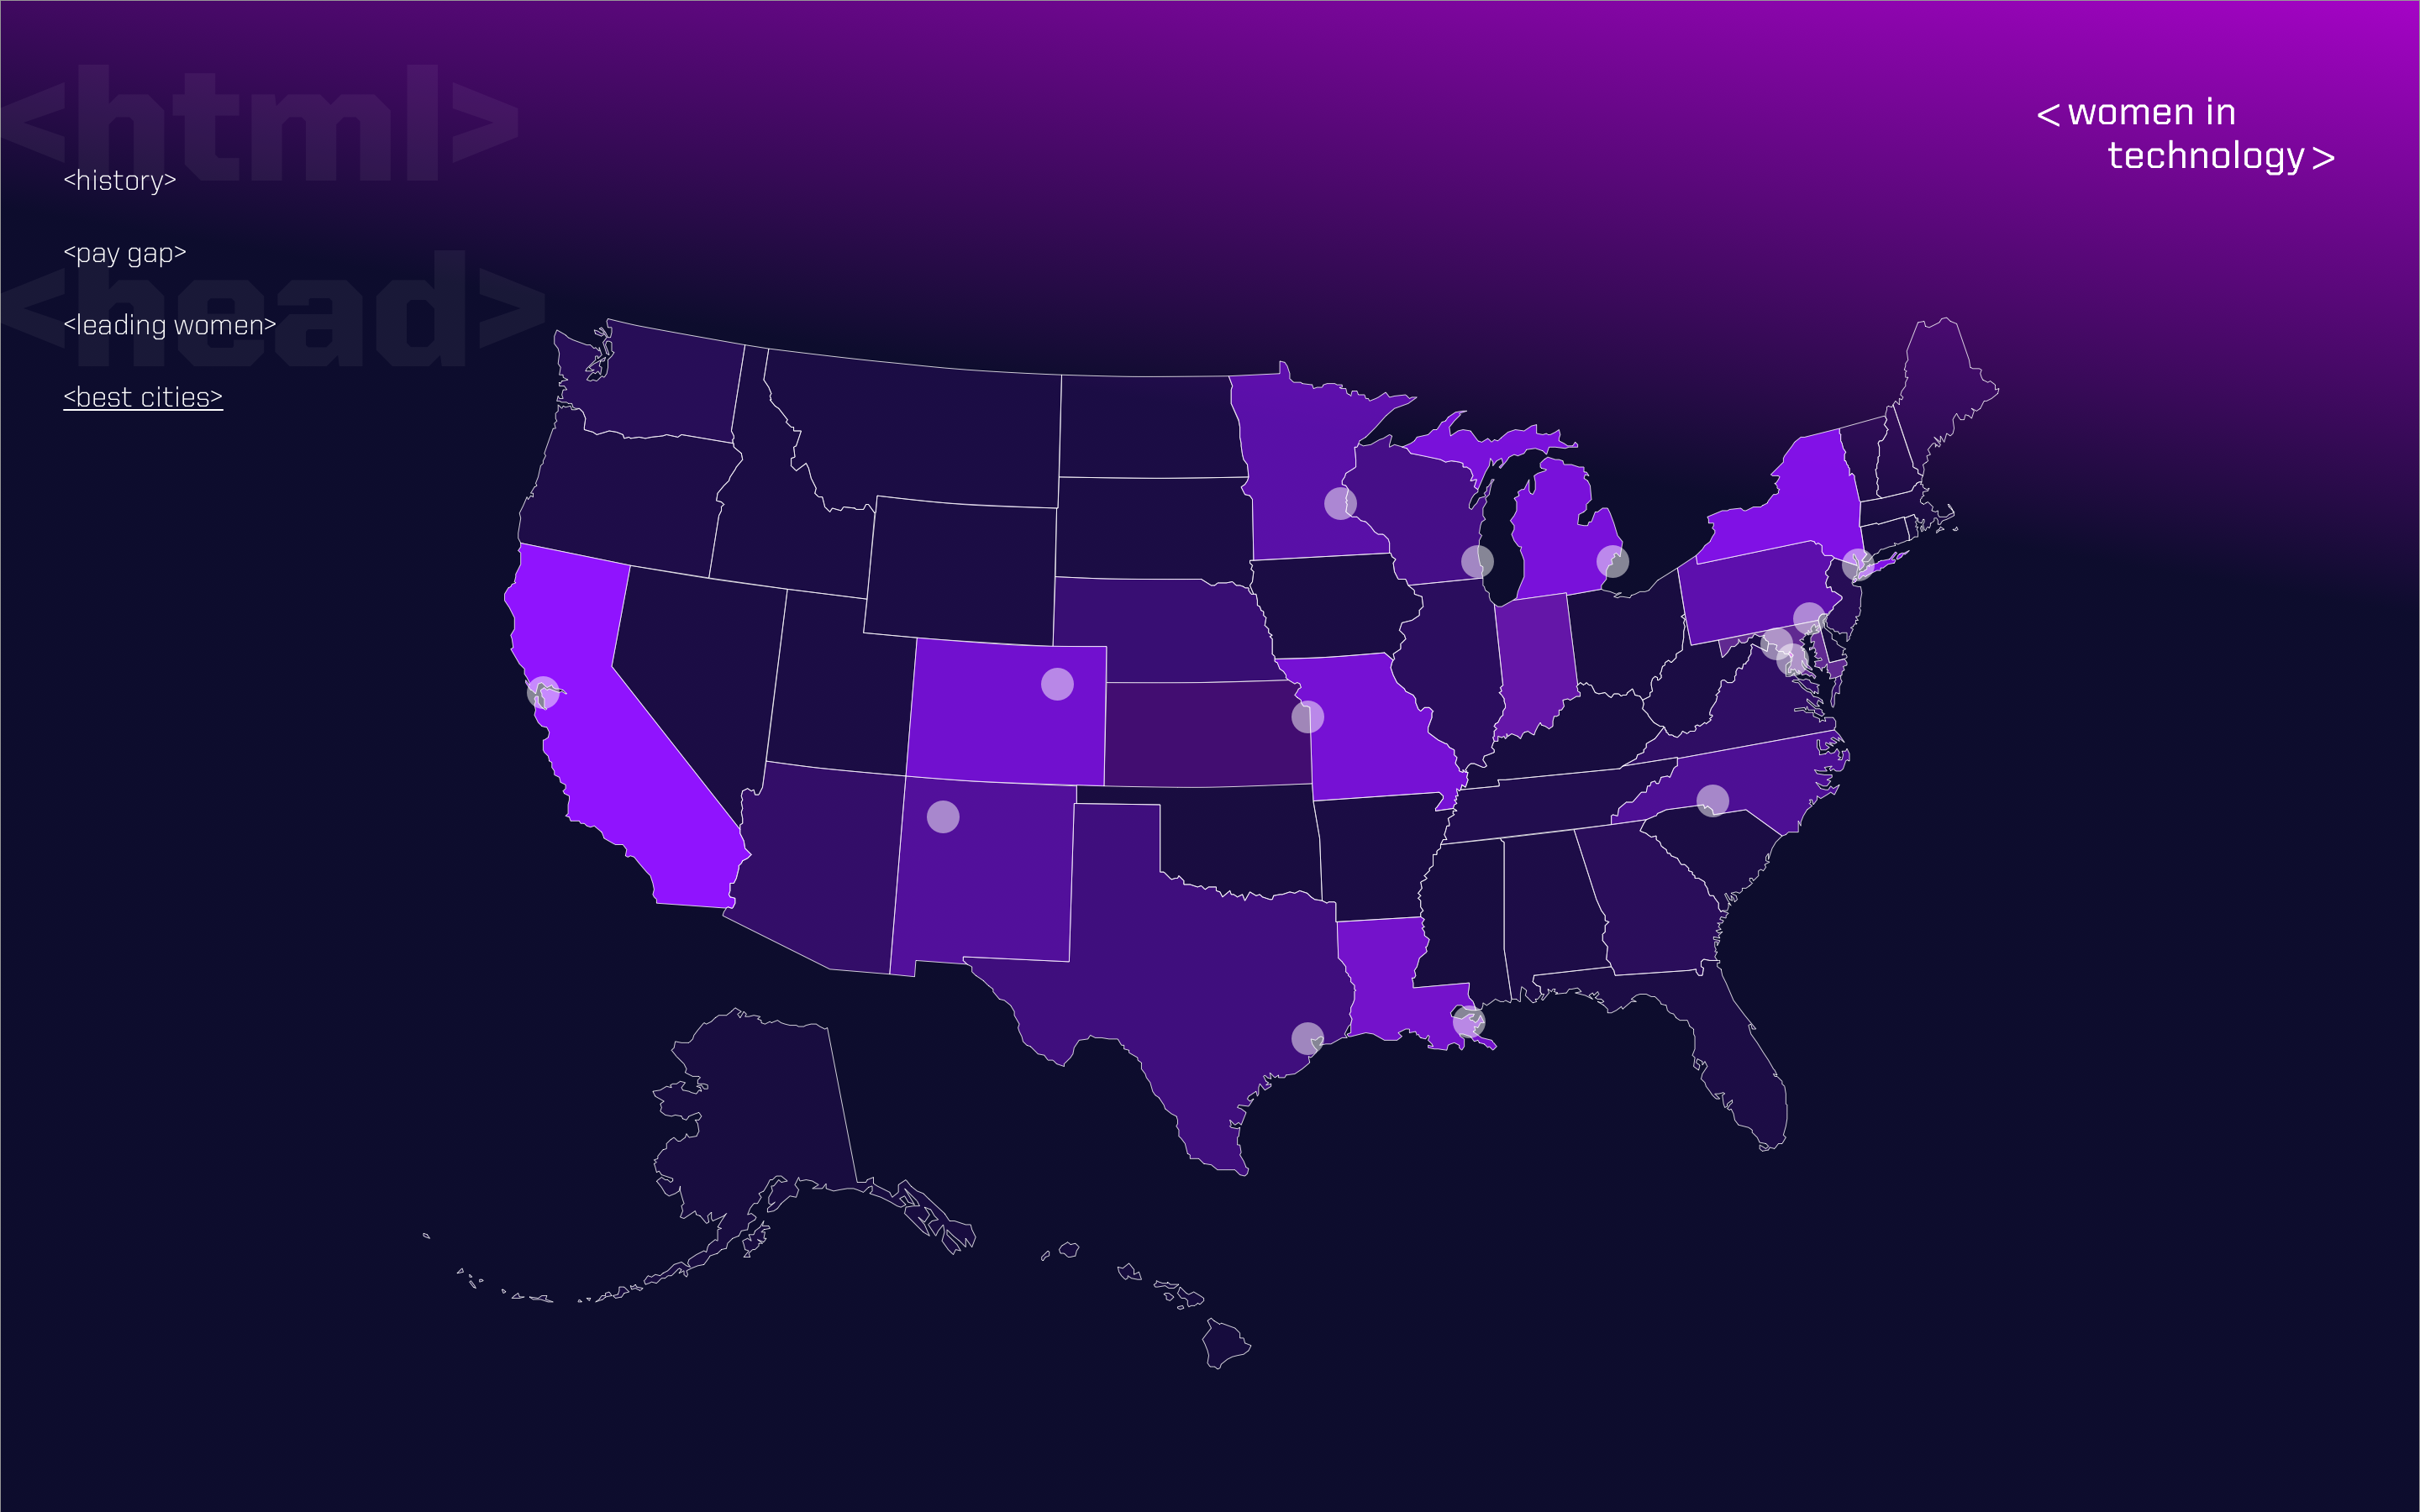

What the dashboard file says about the page in this screenshot:
{"tool":"tableau","page":{"name":"The Best Cities for Women in Tech","canvas":[1020,625],"ordinal":0},"visuals":[{"type":"web page","param":"https://smartasset.com/career/best-cities-women-tech","box":[0,0,510,625]},{"type":"worksheet","title":"The Best Cities for WIT","mark":"Automatic","box":[510,0,510,625]}]}

Visuals, with their boxes in screenshot pixels (x1, y1, x2, y2), scaled from the page's 1020x625 canvas onto the 2420x1512 screenshot:
web page: Rect(0, 0, 1210, 1511)
"The Best Cities for WIT" worksheet: Rect(1210, 0, 2419, 1511)
